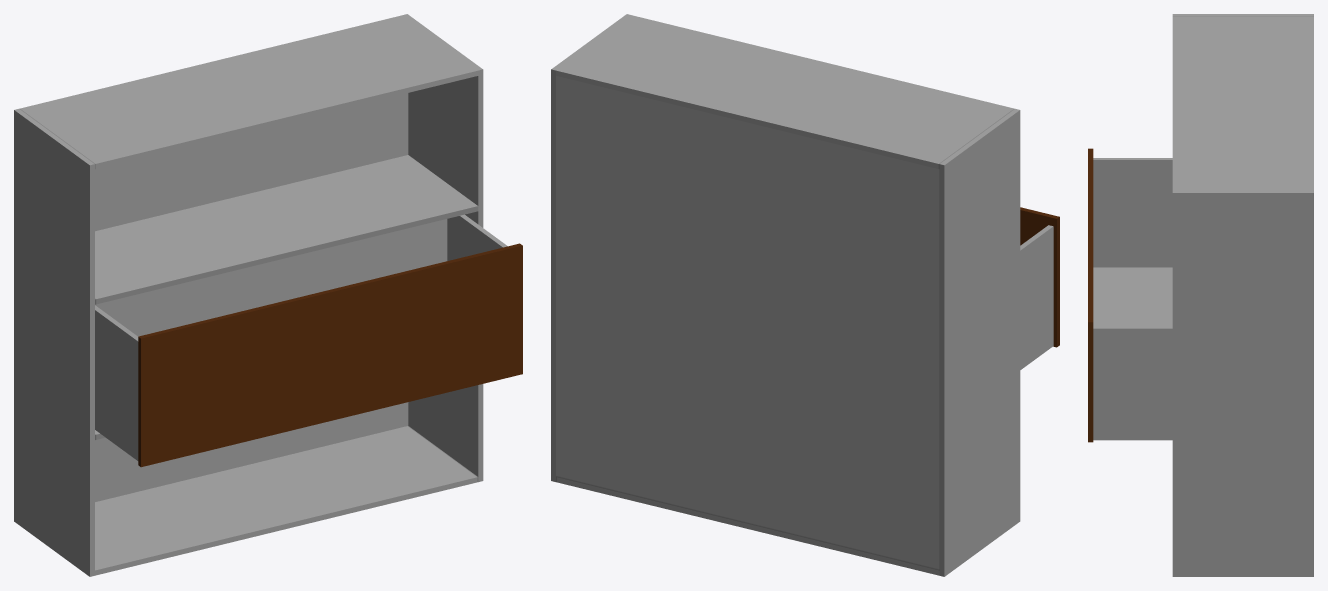
Rendered from meuble_68fa200edc2ee.glb.
3 renders of one model, left to right at view 1: azimuth 30°, elevation 25°; view 2: azimuth 150°, elevation 25°; view 3: azimuth 270°, elevation 25°, orthographic. The views are drawn at different scales.
Visible parts, largest first — view 1: world; view 2: world; view 3: world.
Boxes of the visible parts, x1,y1,x2,y2 form: world: [14, 14, 522, 576]; world: [551, 14, 1059, 576]; world: [1088, 14, 1313, 576].
Size of the model in its own units: 1.5 by 1.5 by 0.8.
1 material, 1 textured.
